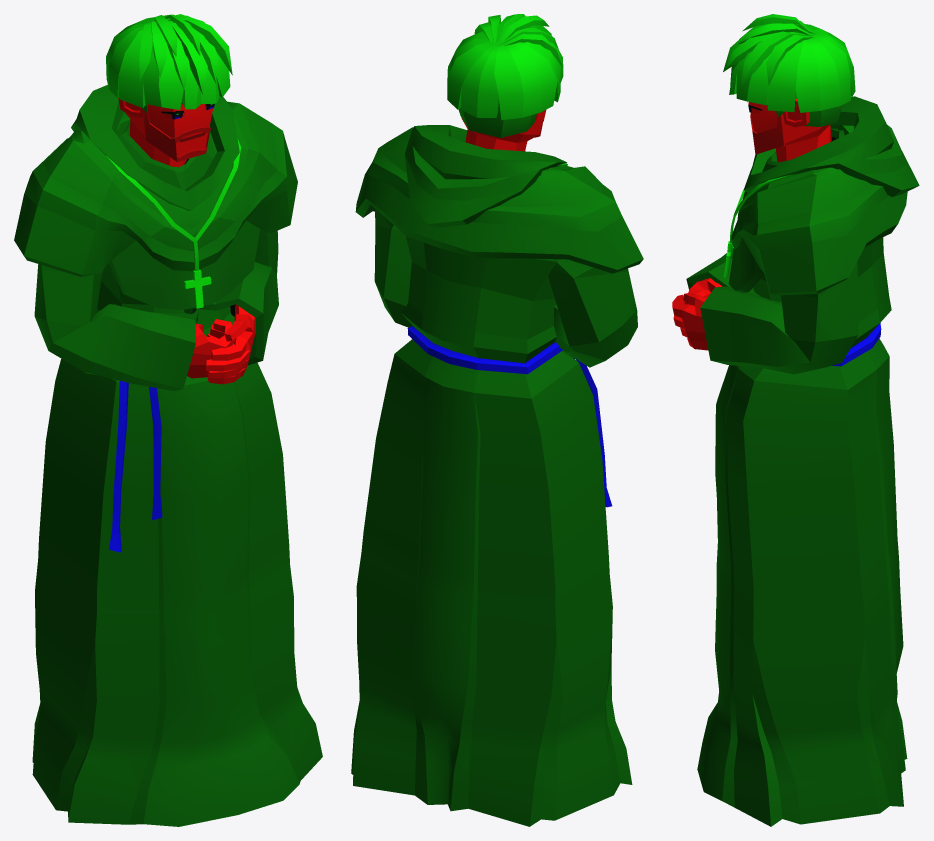
File: M_Priest_prePosed.fbx
3 renders of one model, left to right at view 1: azimuth 30°, elevation 25°; view 2: azimuth 150°, elevation 25°; view 3: azimuth 270°, elevation 25°, orthographic. The views are drawn at different scales.
Visible parts, largest first — view 1: M_Priest_prePosed; view 2: M_Priest_prePosed; view 3: M_Priest_prePosed.
Boxes of the visible parts, x1,y1,x2,y2 form: M_Priest_prePosed: [14, 14, 322, 826]; M_Priest_prePosed: [351, 14, 643, 826]; M_Priest_prePosed: [672, 14, 919, 826].
Bounding box in the file's own units: 80.83 × 208 × 63.02.
